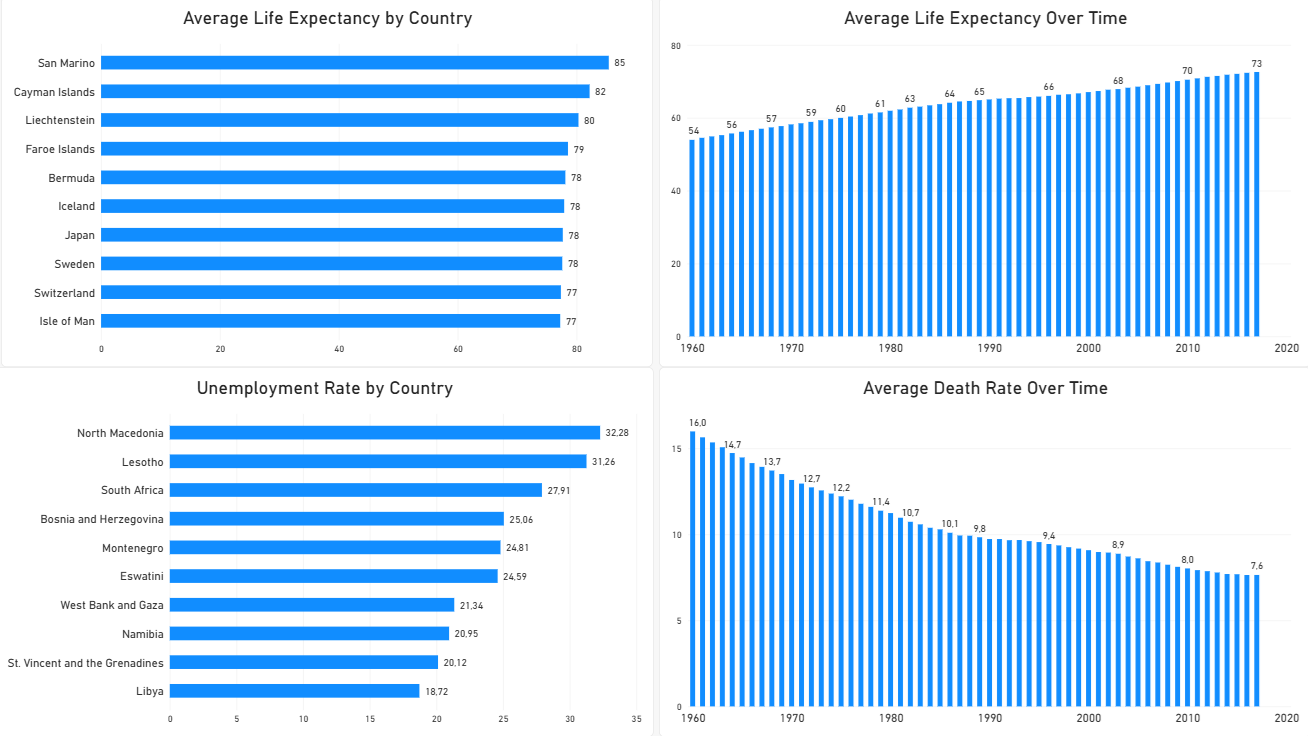

The page's visual inventory and layout, read from the dashboard file:
{"tool":"powerbi","page":{"name":"Life Expectancy & Correlation","canvas":[1920,1080],"ordinal":3},"visuals":[{"type":"barChart","title":"Average Life Expectancy by Country","fields":{"Category":["Development Indicators.Country Name"],"Y":["Avg(Development Indicators.Life expectancy at birth (years))"]},"box":[9.3,0,951.5,540.1],"z":0},{"type":"columnChart","title":"Average Life Expectancy Over Time","fields":{"Category":["Development Indicators.Year"],"Y":["Avg(Development Indicators.Life expectancy at birth (years))"]},"box":[968.5,0,951.5,540.1],"z":1000},{"type":"barChart","title":"Unemployment Rate by Country","fields":{"Category":["Development Indicators.Country Name"],"Y":["Avg(Development Indicators.Unemployment (% of total labor force) (modeled ILO estimate))"]},"box":[0,540.1,960.8,540.1],"z":2000},{"type":"columnChart","title":"Average Death Rate Over Time","fields":{"Category":["Development Indicators.Year"],"Y":["Avg(Development Indicators.Death rate, crude (per 1,000 people))"]},"box":[968.5,540.1,951.5,540.1],"z":3000}]}

Visuals, with their boxes in screenshot pixels (x1, y1, x2, y2), scaled from the page's 1920x1080 canvas onto the 1308x736 screenshot:
"Average Life Expectancy by Country" barChart: x1=6 y1=0 x2=655 y2=368
"Average Life Expectancy Over Time" columnChart: x1=660 y1=0 x2=1307 y2=368
"Unemployment Rate by Country" barChart: x1=0 y1=368 x2=655 y2=735
"Average Death Rate Over Time" columnChart: x1=660 y1=368 x2=1307 y2=735
